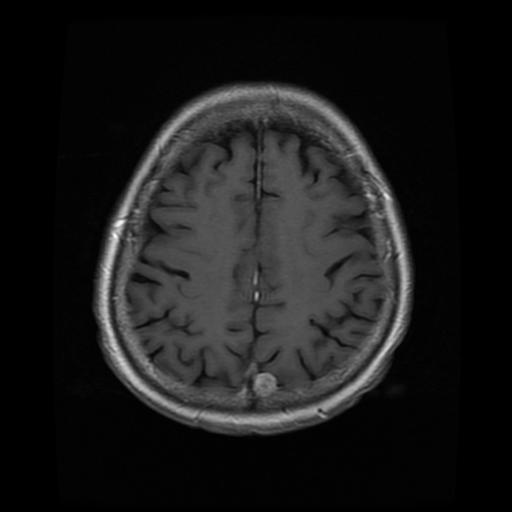Menigiomia_tumour: (255, 371, 276, 394)
